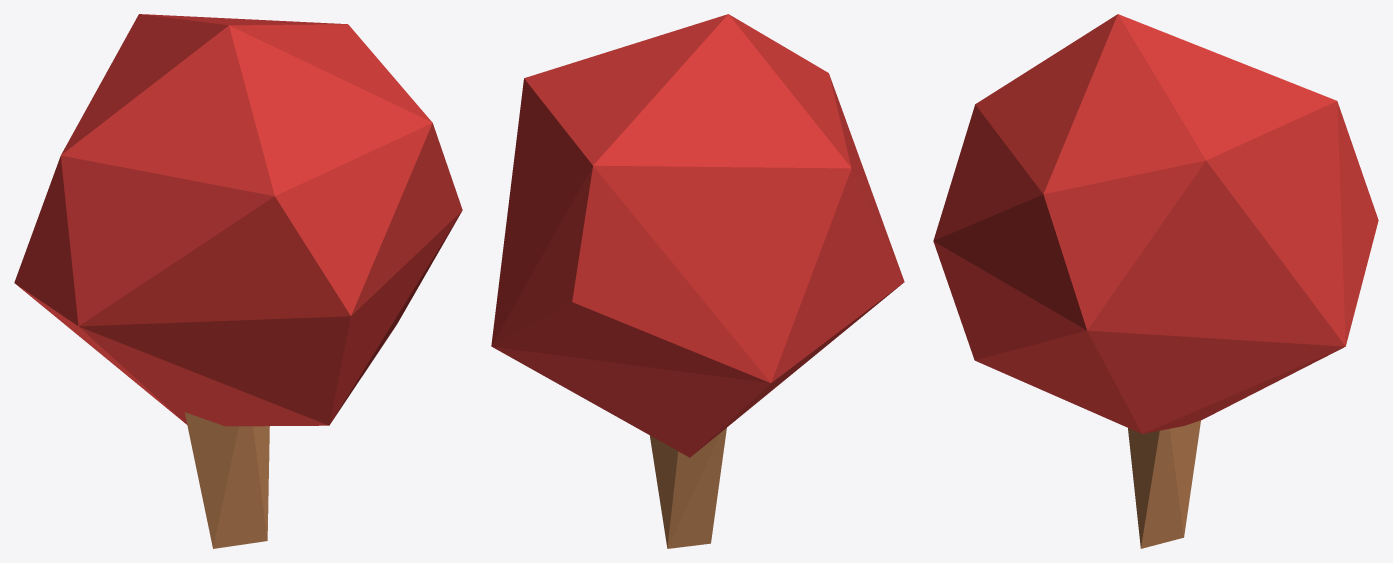
File: world_3_brush_2.dae
3 renders of one model, left to right at view 1: azimuth 30°, elevation 25°; view 2: azimuth 150°, elevation 25°; view 3: azimuth 270°, elevation 25°, orthographic. The views are drawn at different scales.
Parts seen in each view (by area): view 1: world_3_brush_2_leaves, world_3_brush_2_base; view 2: world_3_brush_2_leaves, world_3_brush_2_base; view 3: world_3_brush_2_leaves, world_3_brush_2_base.
Boxes of the visible parts, box(x1,y1,x2,y2) form: world_3_brush_2_leaves: box(14, 14, 462, 426); world_3_brush_2_base: box(184, 412, 269, 548); world_3_brush_2_leaves: box(491, 14, 904, 457); world_3_brush_2_base: box(650, 428, 726, 548); world_3_brush_2_leaves: box(933, 14, 1378, 433); world_3_brush_2_base: box(1128, 420, 1200, 548).
Size of the model in its own units: 0.3485 by 0.3673 by 0.4655.
